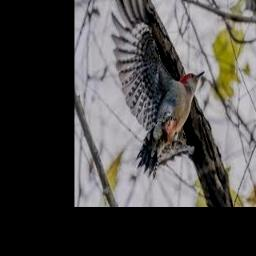Woodpecker: (111, 0, 204, 178)
